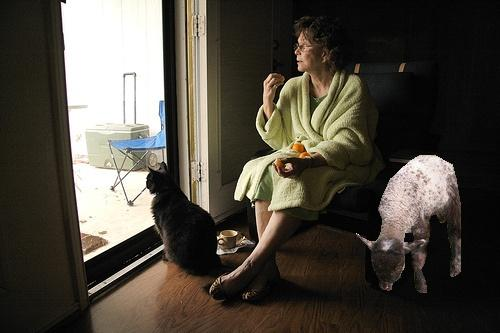tampered: (357, 156, 461, 293)
